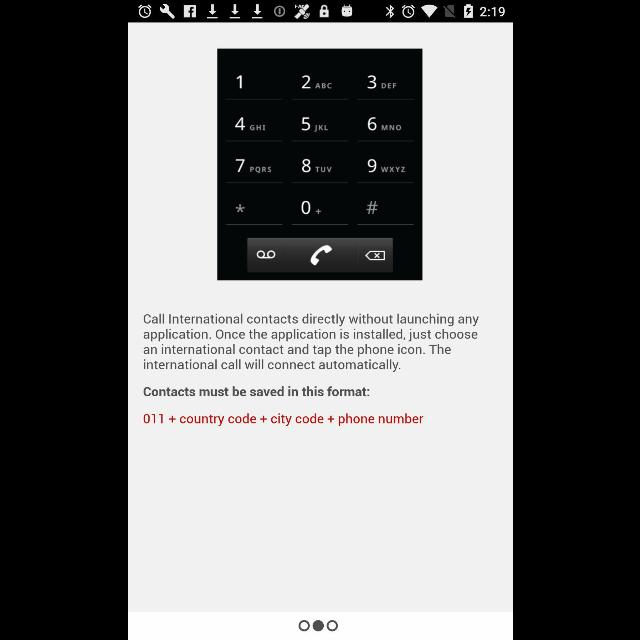image: (216, 49, 422, 281)
pageindicator: (298, 620, 338, 632)
text: (144, 314, 478, 372), (143, 414, 423, 426), (143, 387, 369, 397)
uppertaskbar: (128, 1, 512, 23)
